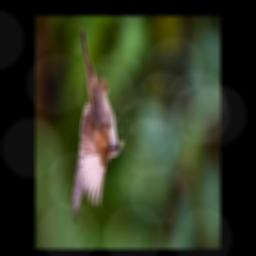Sparrow: (71, 28, 124, 225)
